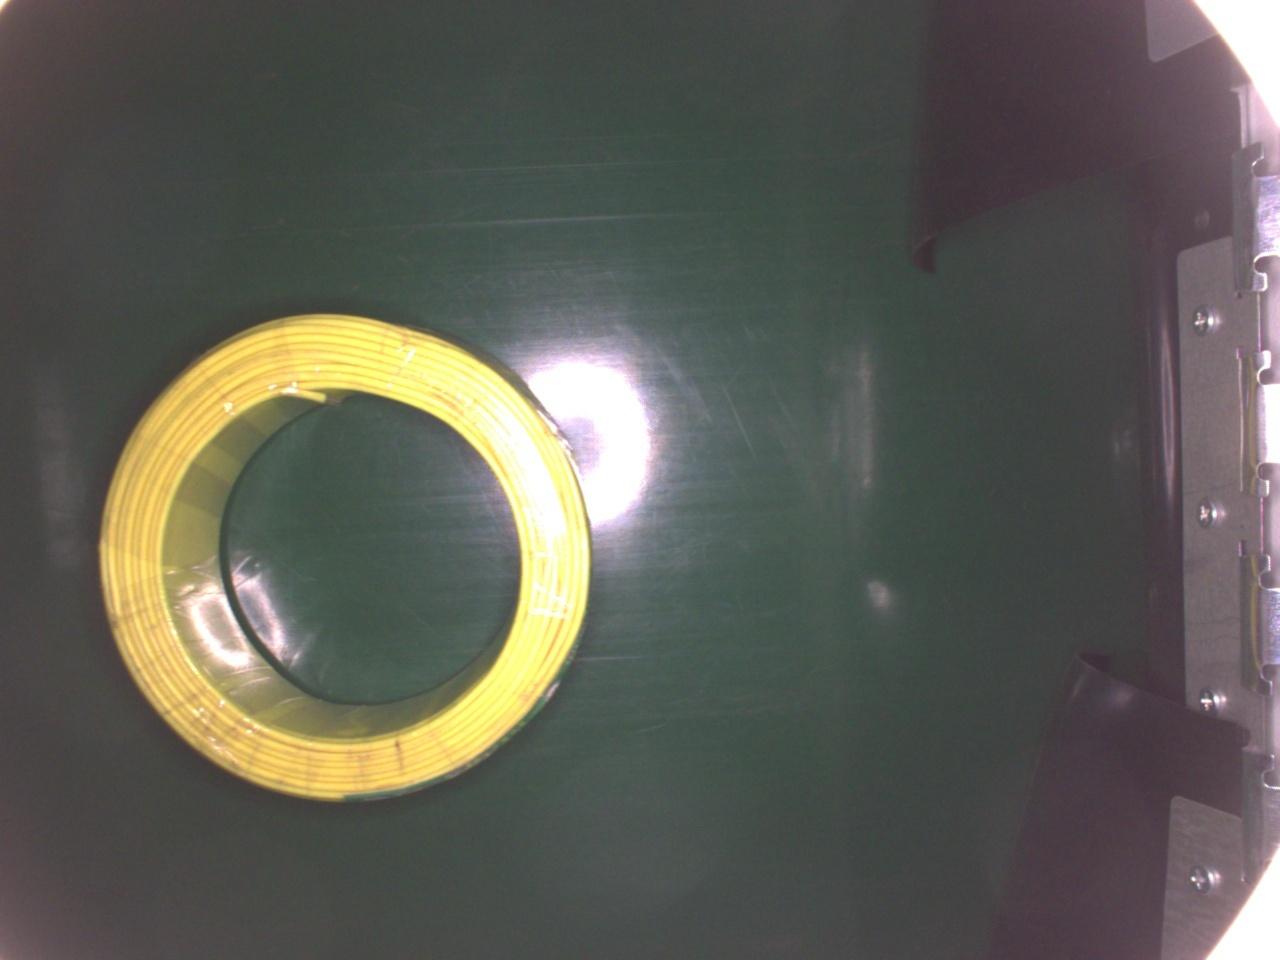yellow: (96, 305, 596, 798)
